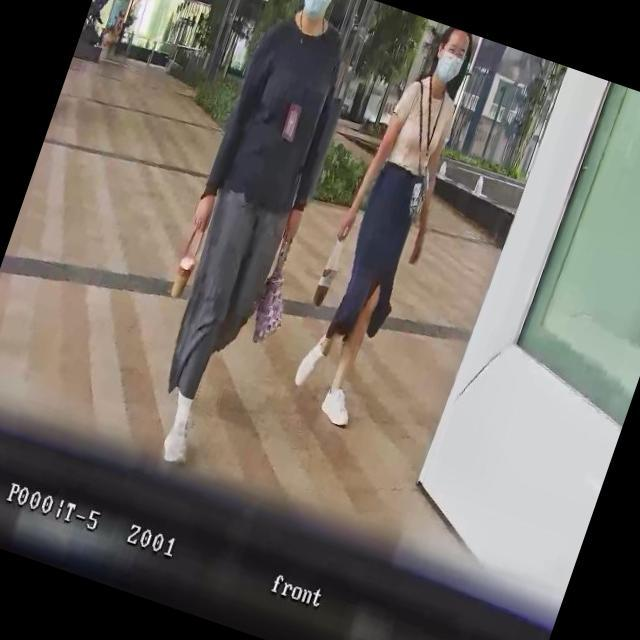person: (113, 0, 378, 481), (277, 13, 492, 433)
